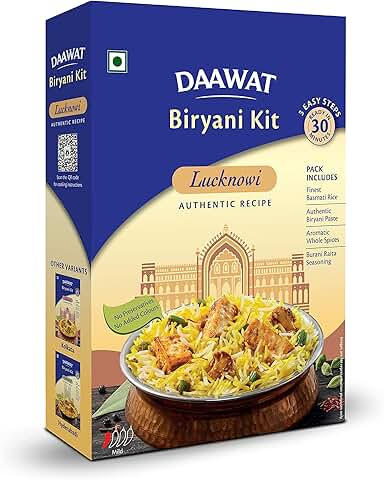Biryani: (39, 2, 354, 467)
